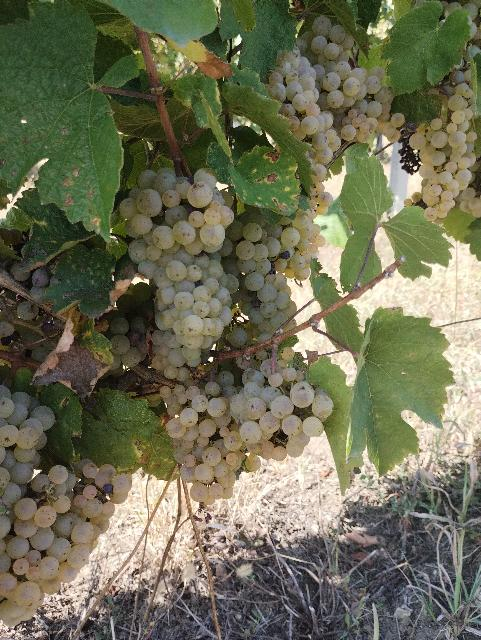grapes: (120, 168, 242, 374), (230, 360, 334, 461), (229, 212, 306, 348), (166, 381, 247, 505)
